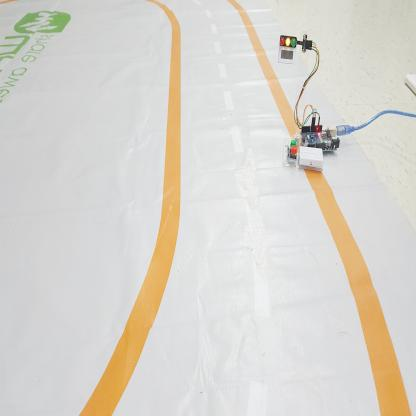traffic-light: (278, 32, 300, 48)
